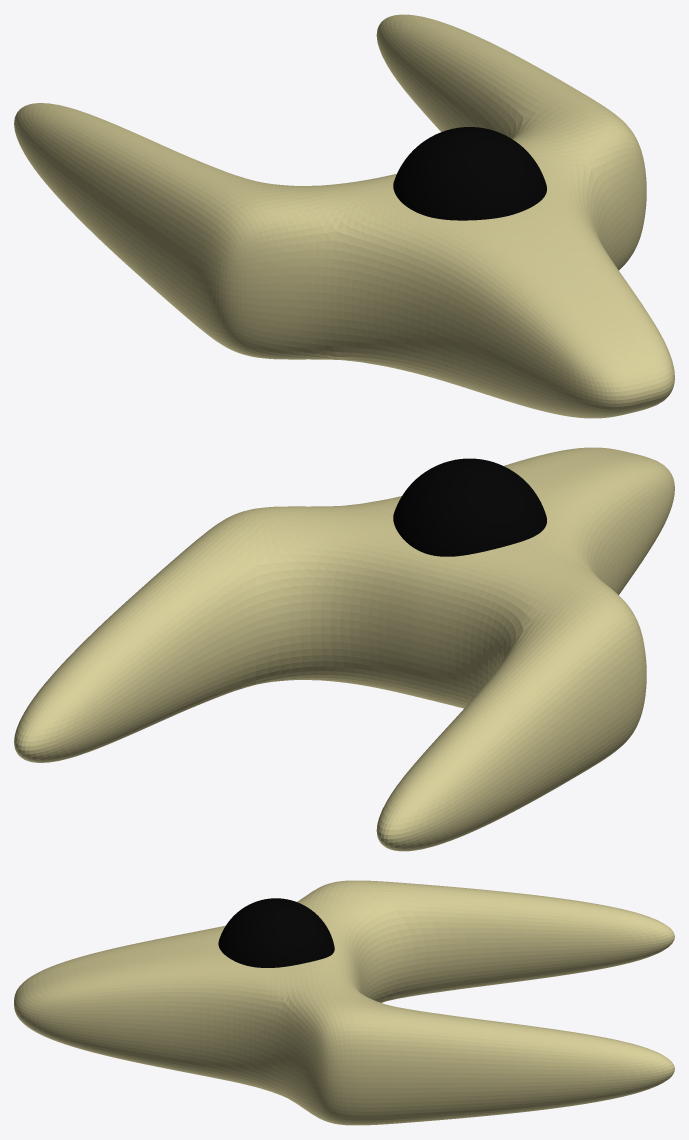
The model's file is ship1.dae.
3 renders of one model, top to bottom at view 1: azimuth 30°, elevation 25°; view 2: azimuth 150°, elevation 25°; view 3: azimuth 270°, elevation 25°, orthographic. The views are drawn at different scales.
Visible parts, largest first — view 1: Icosphere; view 2: Icosphere; view 3: Icosphere.
Boxes of the visible parts, x1,y1,x2,y2 form: Icosphere: [14, 14, 674, 418]; Icosphere: [14, 447, 674, 851]; Icosphere: [14, 880, 674, 1125].
Bounding box in the file's own units: 5.56 × 9.75 × 2.61.
